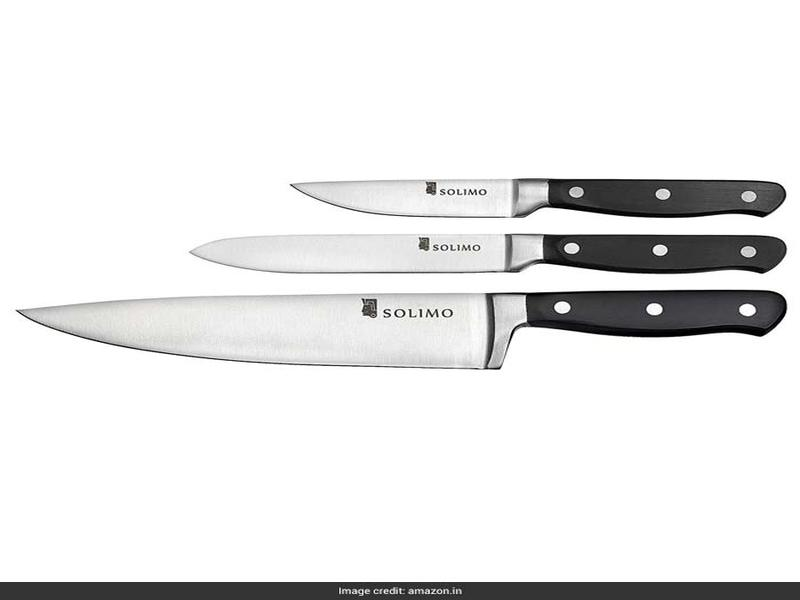KNIFE: (8, 175, 800, 375)
